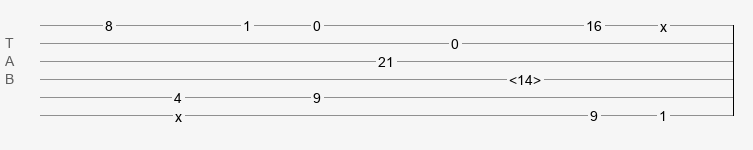0: (313, 18, 321, 28), (451, 36, 459, 46)
1: (243, 18, 251, 28), (659, 108, 667, 118)
16: (586, 18, 602, 28)
21: (378, 54, 394, 64)
4: (174, 90, 182, 100)
8: (105, 18, 113, 28)
9: (313, 90, 321, 100), (590, 108, 598, 118)
harmonic: (509, 72, 541, 82)
x: (175, 109, 182, 117), (660, 19, 667, 27)
